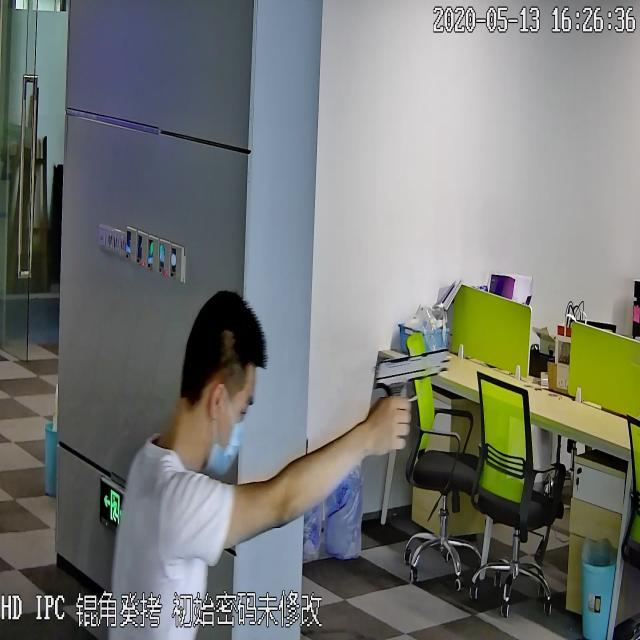gun: (372, 341, 452, 459)
